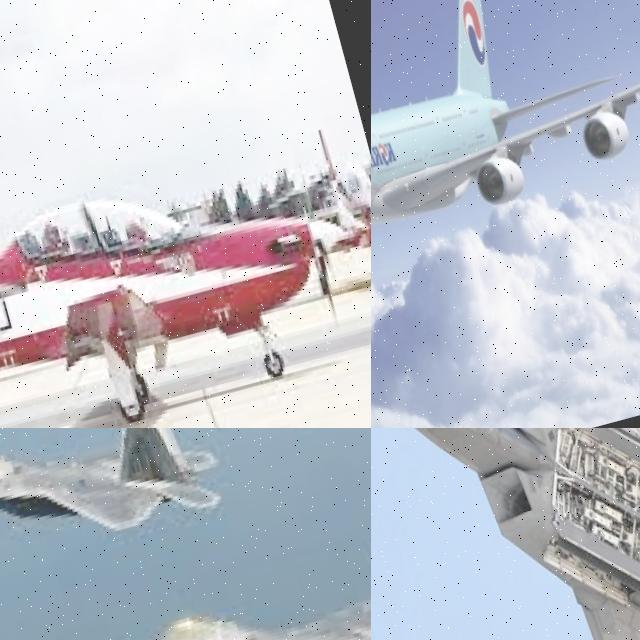A380: (371, 0, 640, 289)
F22: (371, 428, 640, 640), (93, 496, 371, 640), (0, 428, 229, 584)
KT-1: (0, 64, 371, 428)
